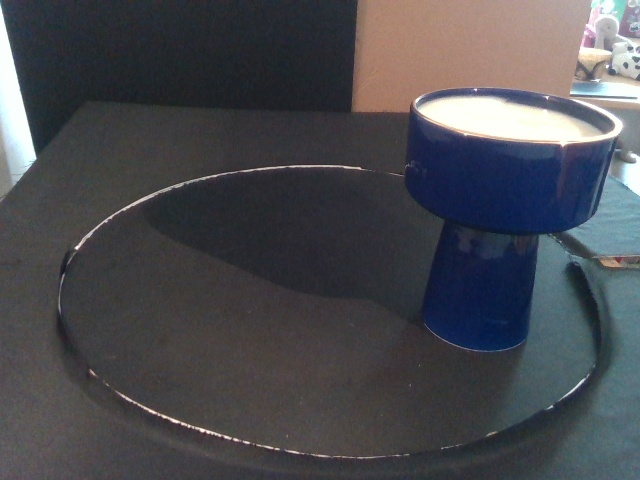candle: (403, 87, 624, 354)
